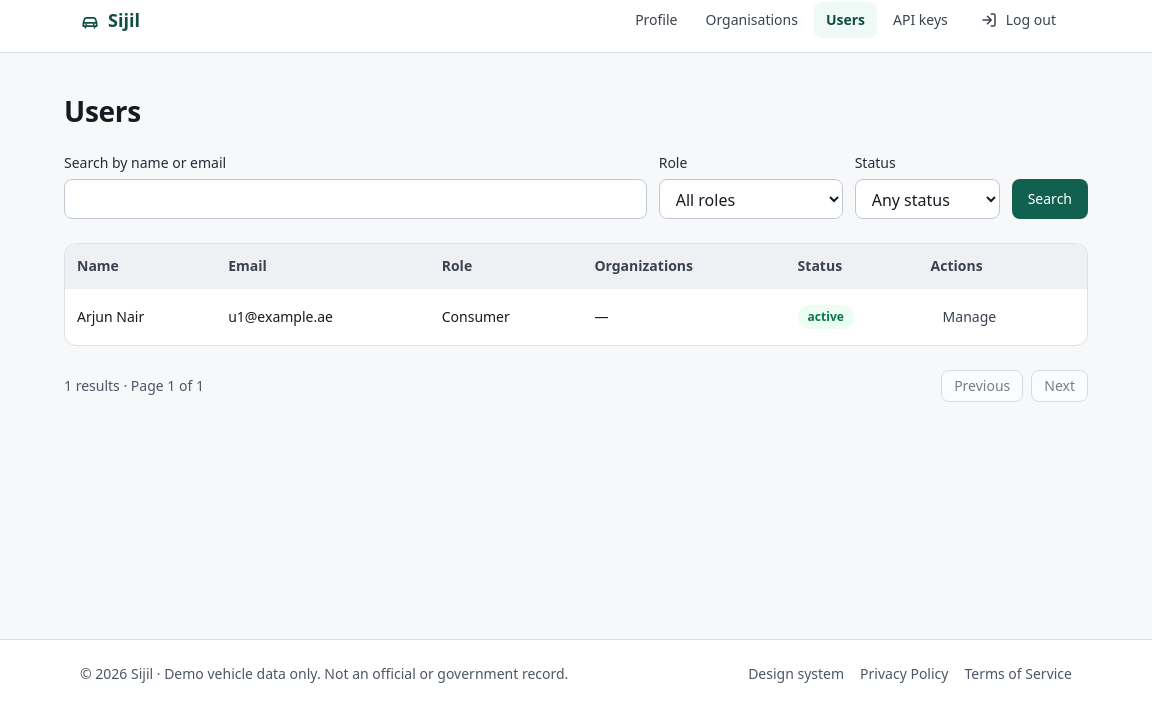
it: admin: users › resets a forgotten password and shows it once
Click the button with aria-label "Manage Arjun Nair". click: (969, 317)
box: 931,301 -> 1008,333
(page scrolled)
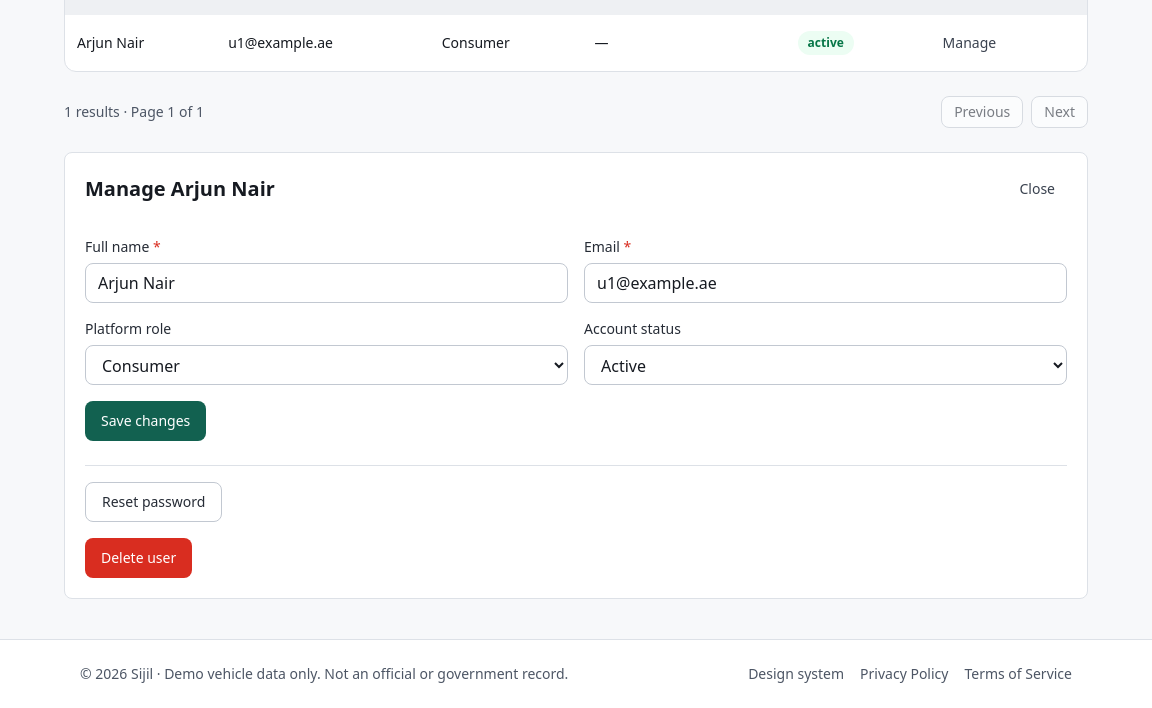
Click the button "Reset password". click: (154, 502)
box: 85,482 -> 222,522
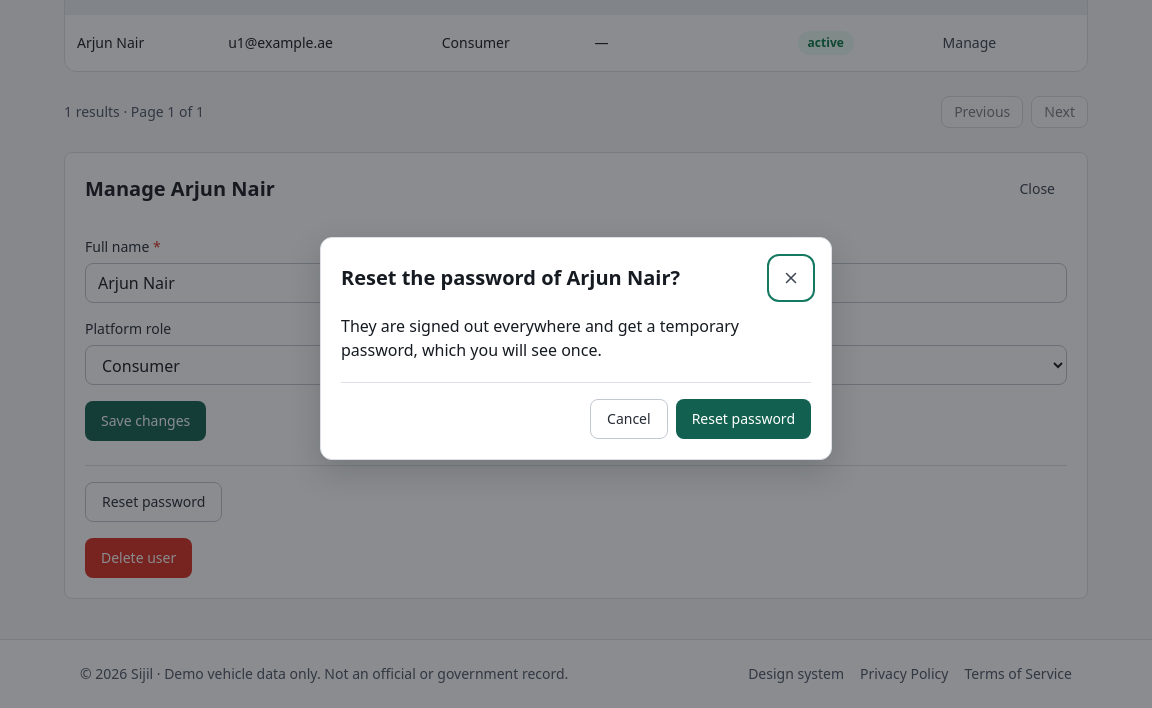
Click the button "Reset password". click: (743, 418)
box: 676,398 -> 811,438
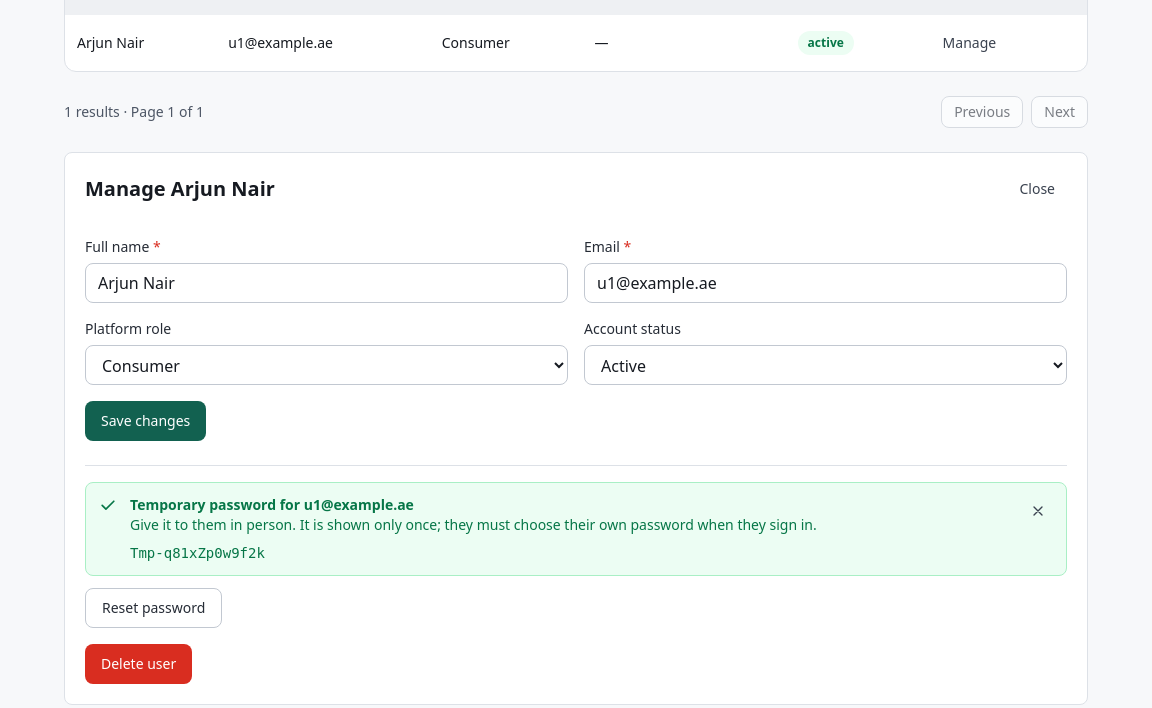
Now the text with test id "reset-temporary-password" reads "Tmp-q81xZp0w9f2k", box 130,545 -> 265,561
